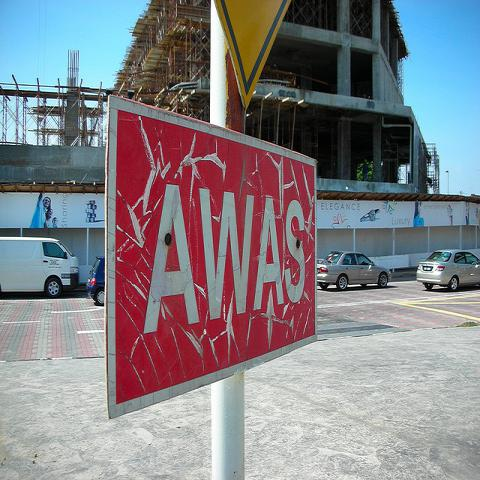car: (1, 239, 80, 292), (317, 250, 392, 291), (416, 248, 480, 293), (85, 257, 104, 306)
truck: (0, 236, 80, 296)
